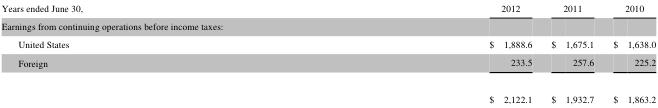table: (0, 1, 655, 104)
table column: (0, 1, 285, 104), (285, 1, 540, 104), (540, 1, 602, 104), (602, 1, 655, 104)
table column header: (0, 1, 655, 16)
table projected row header: (0, 16, 655, 34)
table row: (0, 52, 655, 80), (0, 80, 655, 104), (0, 16, 655, 34), (0, 34, 655, 52), (0, 1, 655, 16)
